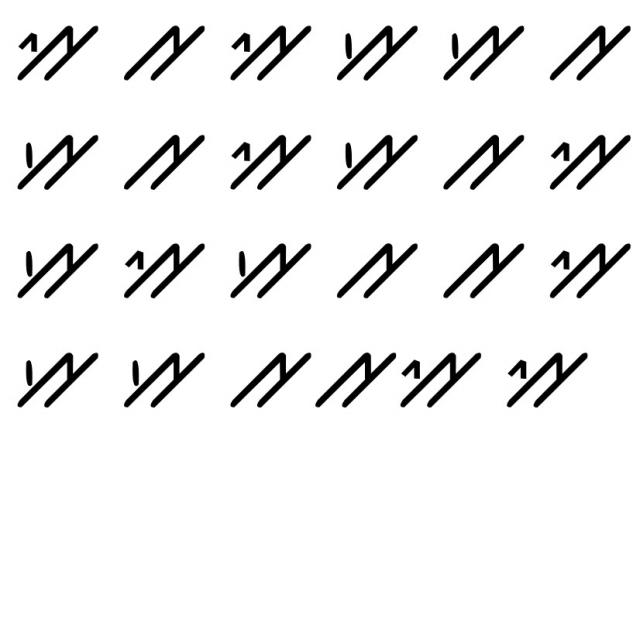wa: (437, 122, 528, 198), (226, 337, 312, 415), (542, 13, 632, 86), (122, 13, 210, 84), (122, 122, 205, 195), (338, 232, 418, 304), (317, 346, 395, 416), (441, 236, 525, 300)
we: (334, 112, 426, 195), (434, 11, 524, 87), (228, 228, 317, 304), (328, 11, 418, 86), (9, 122, 99, 195), (13, 338, 102, 411), (14, 229, 106, 299), (118, 341, 206, 413)
wi: (220, 116, 317, 197), (118, 222, 209, 306), (220, 11, 317, 86), (540, 123, 632, 199), (504, 341, 590, 418), (7, 15, 100, 81), (398, 343, 482, 416), (550, 232, 634, 304)
